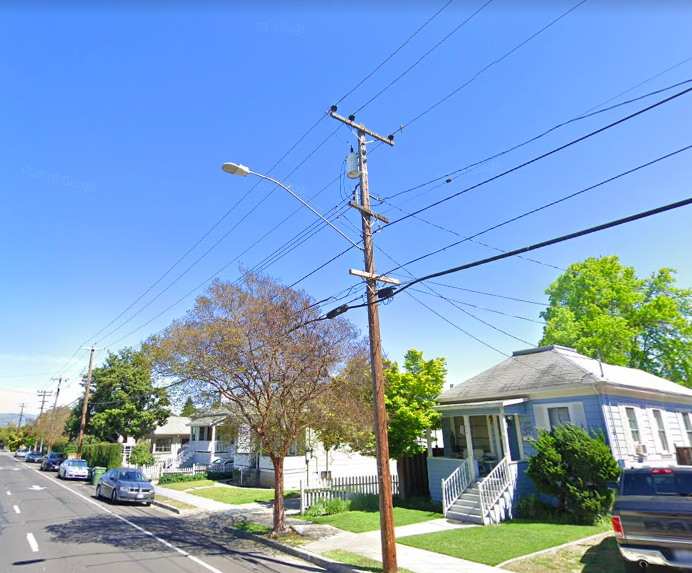utility_pole: (321, 95, 401, 173)
